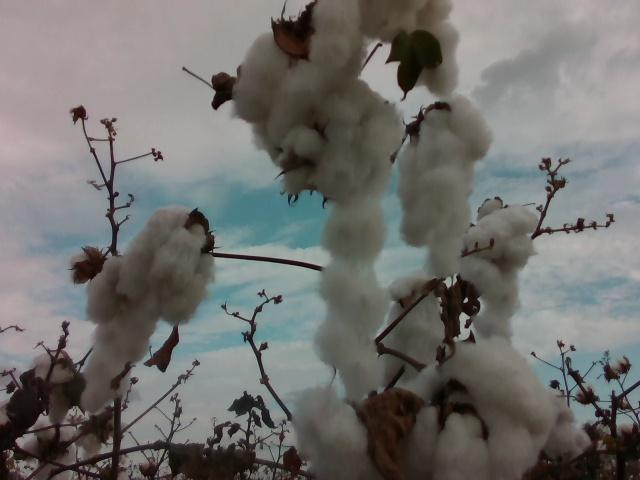cotton_ready: (273, 78, 407, 402), (390, 337, 552, 480), (231, 0, 366, 148), (398, 95, 494, 277), (116, 206, 217, 327), (81, 255, 158, 409), (460, 205, 540, 344), (360, 0, 460, 97), (290, 384, 390, 480), (383, 268, 446, 386), (541, 388, 592, 463), (31, 349, 76, 425), (20, 421, 77, 480), (76, 406, 127, 460), (0, 402, 20, 442)
